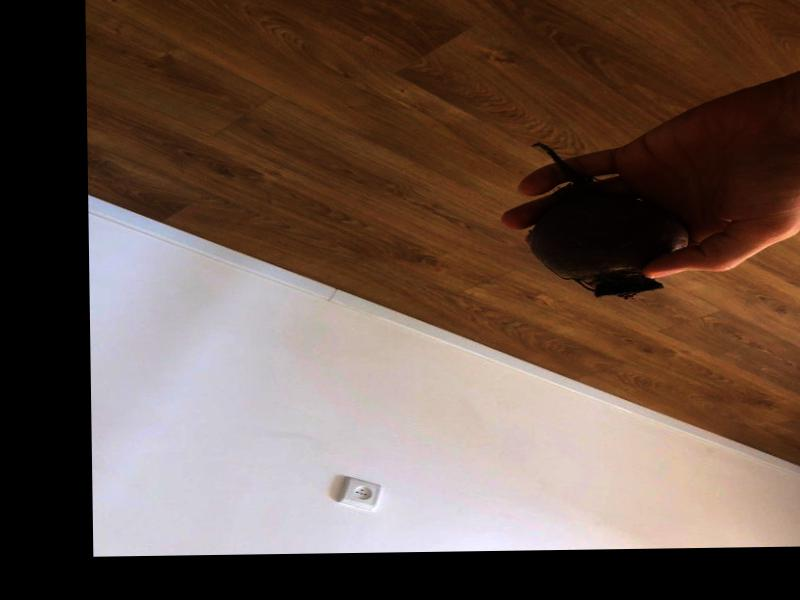Beet: (524, 140, 689, 296)
